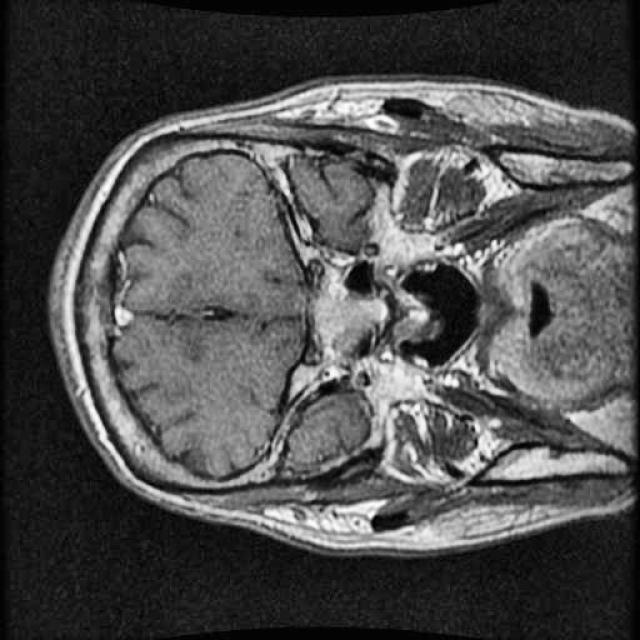Tumor: (306, 272, 398, 360)
